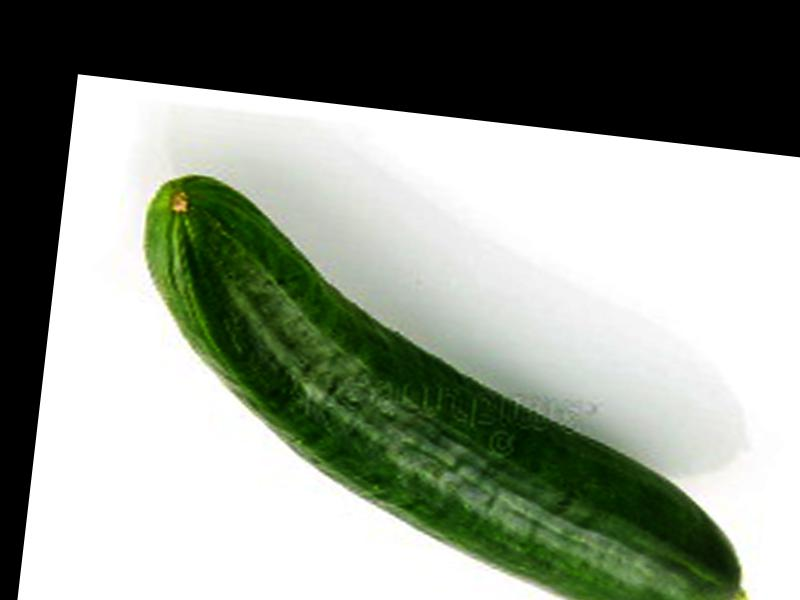Cucumber: (106, 170, 779, 600)
